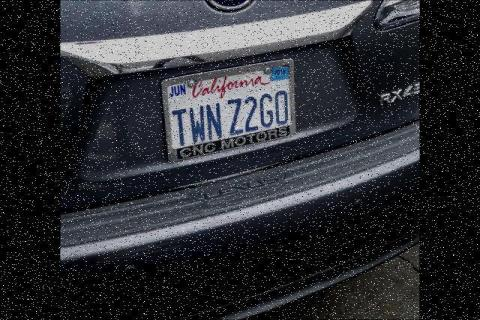LicensePlate: (159, 59, 297, 148)
